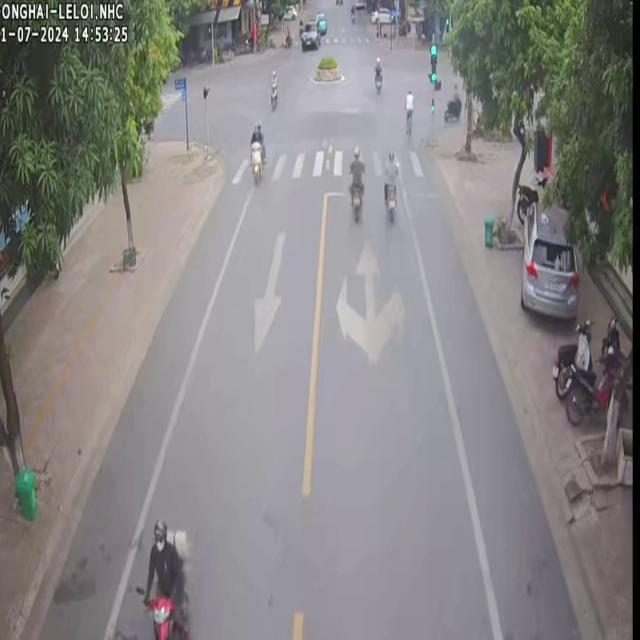car: (519, 194, 578, 318)
green_light: (427, 40, 435, 85)
motobike: (563, 316, 622, 422), (550, 318, 590, 398), (348, 145, 363, 219), (382, 149, 397, 220), (248, 118, 263, 181), (268, 69, 277, 109), (373, 56, 380, 91)
stop_line: (323, 189, 436, 196)
